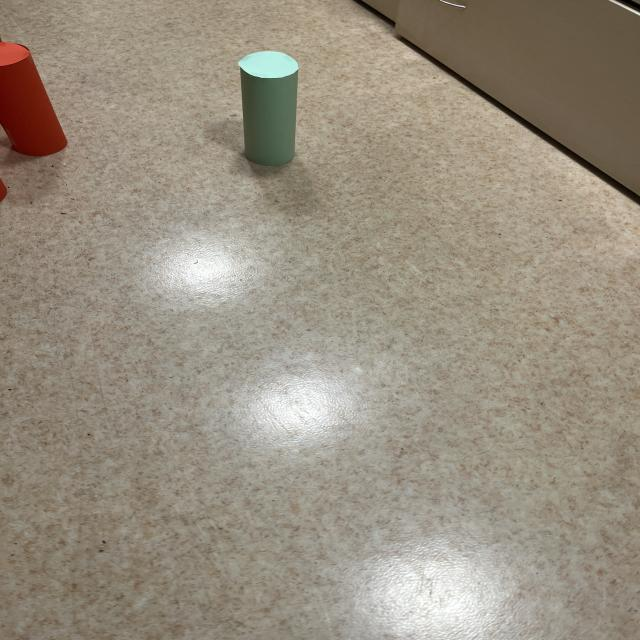meta: (238, 51, 298, 166)
